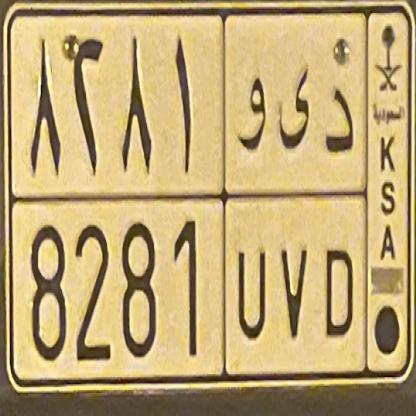english: (5, 190, 368, 374)
